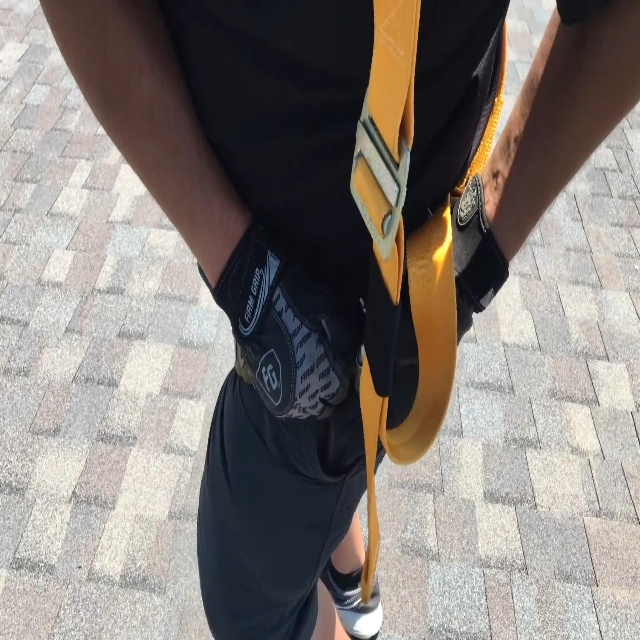Arnes_seguridad: (173, 0, 509, 611)
